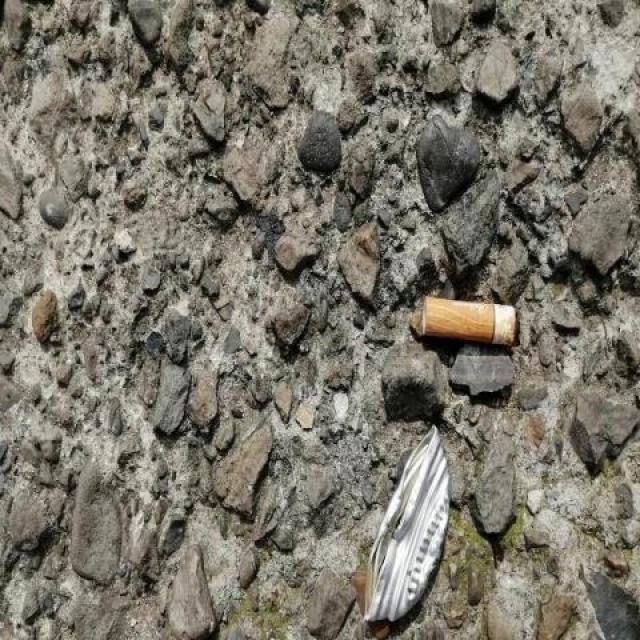non-organic waste: (418, 291, 522, 350)
